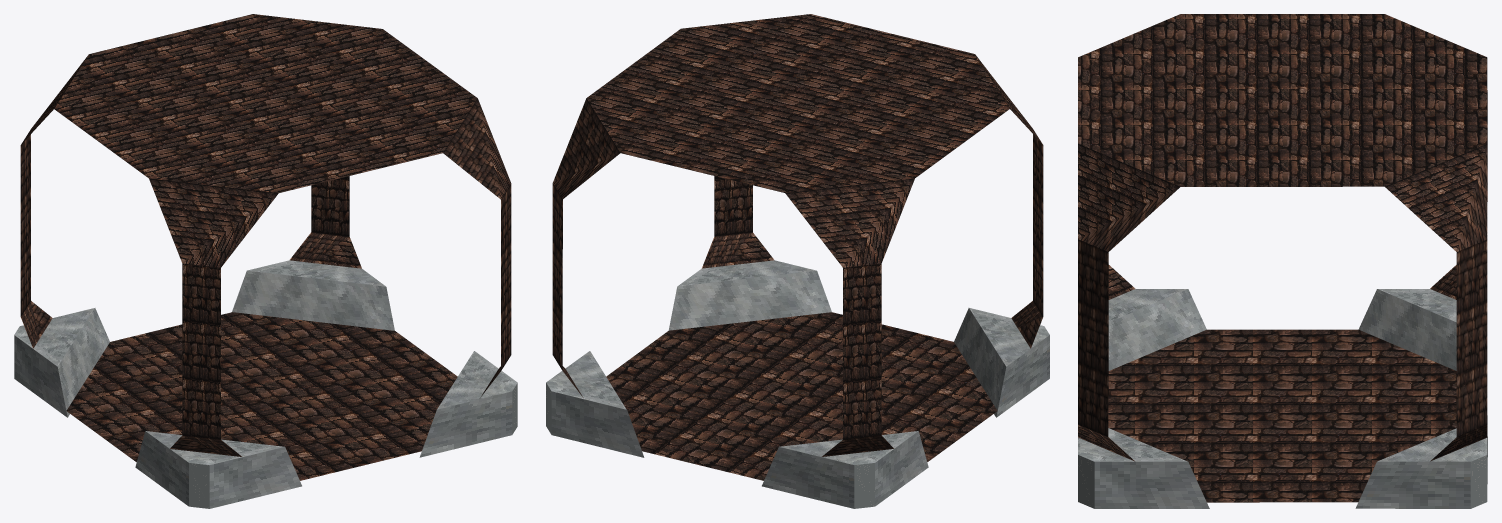
File: pipe3.glb
3 views of the same model, side by side, from view 1: azimuth 30°, elevation 25°; view 2: azimuth 150°, elevation 25°; view 3: azimuth 270°, elevation 25° (orthographic). The views are drawn at different scales.
Visible parts, largest first — view 1: Plane.004; view 2: Plane.004; view 3: Plane.004.
Boxes of the visible parts, x1,y1,x2,y2 form: Plane.004: [14, 14, 517, 508]; Plane.004: [546, 14, 1049, 508]; Plane.004: [1078, 14, 1487, 508].
Size of the model in its own units: 4 by 3.47 by 4.01.
2 materials, 2 textured.
